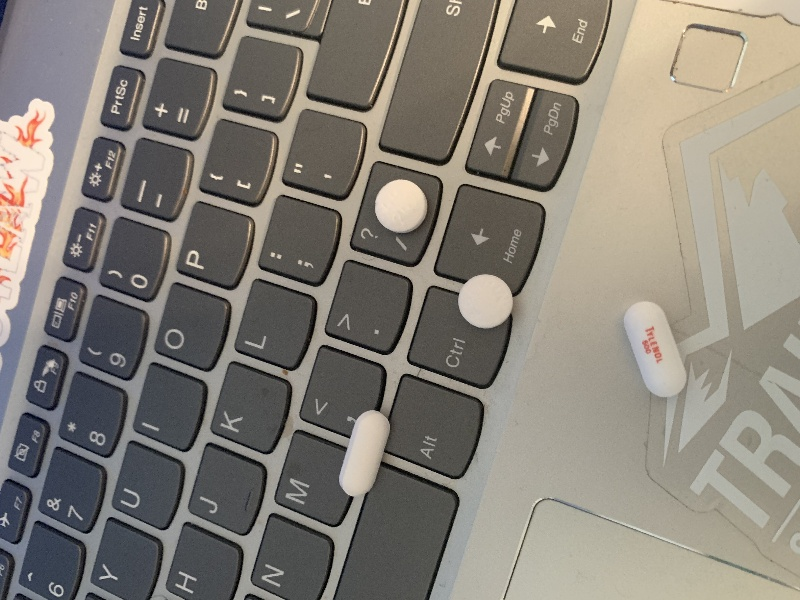Aspirin: (453, 271, 522, 333), (374, 177, 430, 236)
Tylenol: (617, 296, 695, 405), (338, 406, 397, 500)
